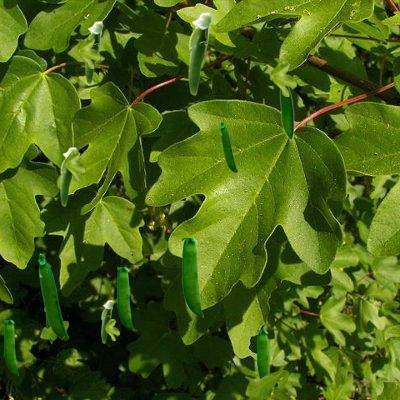pea: (38, 253, 67, 339), (188, 12, 211, 94), (182, 238, 202, 316), (85, 21, 102, 83), (117, 267, 132, 329), (60, 147, 76, 205), (220, 121, 236, 171), (279, 87, 293, 141), (4, 320, 17, 374), (257, 330, 270, 378), (101, 300, 112, 342), (44, 310, 52, 343)
